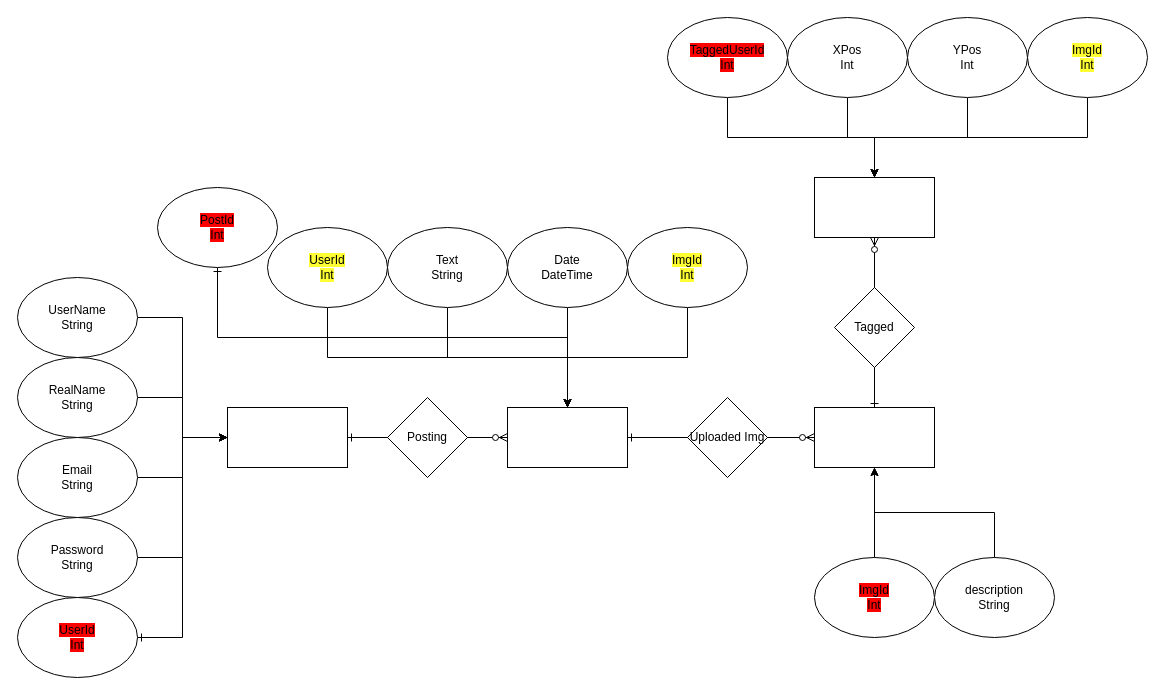
Image size: 1165x695. Some labels were removed from this diagram. Here are the shapes that lost their labels. From the top down, the centre of each, then its label:
At [874,207]: "Tags".
At [287,437]: "Users".
At [567,437]: "Post".
At [874,437]: "Images".
